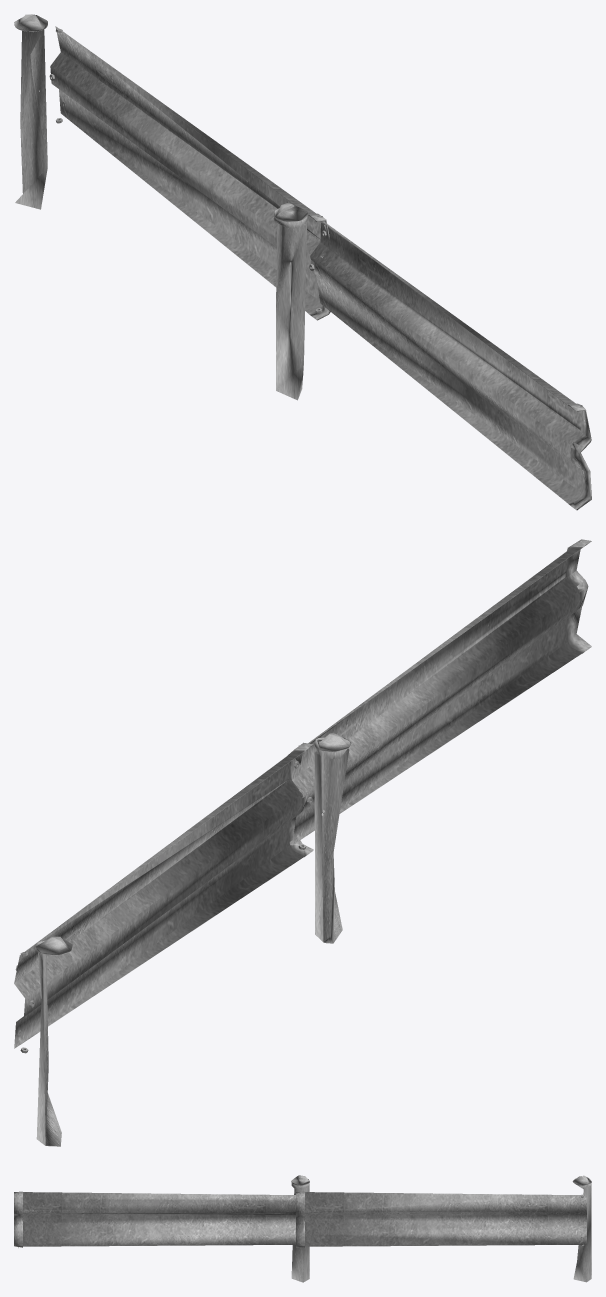
File: guardrail-heavy.glb
3 views of the same model, one above another, from view 1: azimuth 30°, elevation 25°; view 2: azimuth 150°, elevation 25°; view 3: azimuth 270°, elevation 25° (orthographic). The views are drawn at different scales.
Parts seen in each view (by area): view 1: roadside guard_0; view 2: roadside guard_0; view 3: roadside guard_0.
Boxes of the visible parts, x1=… form: roadside guard_0: x1=14, y1=14, x2=591, y2=510; roadside guard_0: x1=14, y1=539, x2=591, y2=1146; roadside guard_0: x1=14, y1=1175, x2=591, y2=1282.
Size of the model in its own units: 0.4585 by 1.51 by 7.72.
2 materials, 2 textured.
